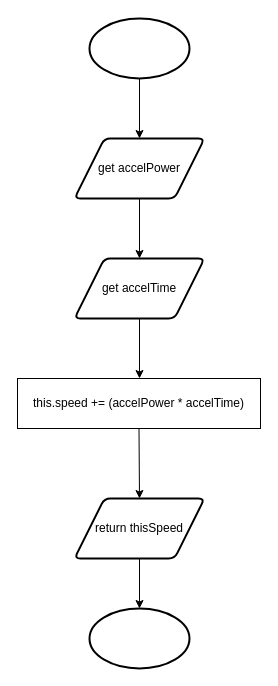
The diagram is 278 pixels wide and 686 high, and some of its shapes have lost their labels. Each missing label, with the centre of its shape:
Start: point 139,48
Stop: point 139,638
